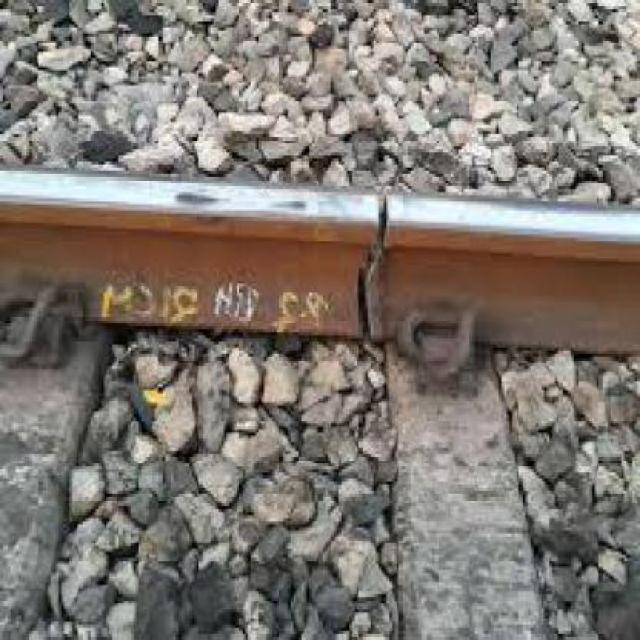defective: (69, 94, 566, 465)
